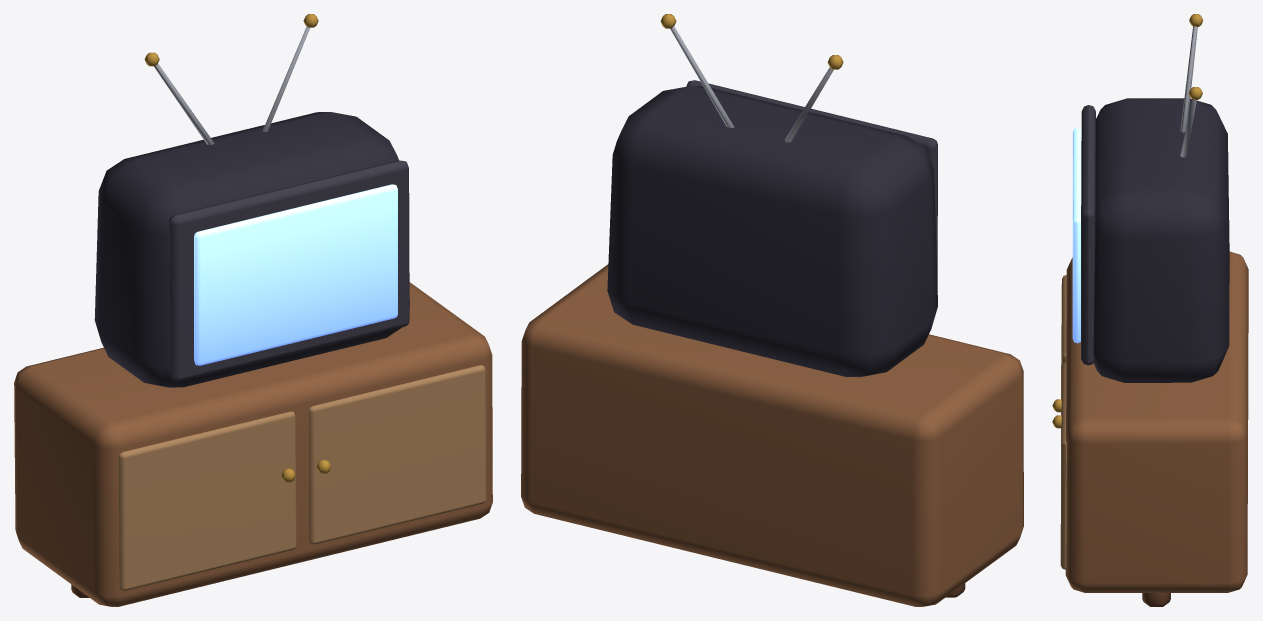
3 views of the same model, side by side, from view 1: azimuth 30°, elevation 25°; view 2: azimuth 150°, elevation 25°; view 3: azimuth 270°, elevation 25° (orthographic). The views are drawn at different scales.
Parts seen in each view (by area): view 1: tv, screen; view 2: tv; view 3: tv, screen.
Part boxes in pixels (x1,y1,x2,y2): tv: (14, 14, 492, 606); screen: (194, 184, 397, 365); tv: (521, 14, 1023, 606); tv: (1052, 14, 1248, 606); screen: (1072, 128, 1081, 343).
Size of the model in its own units: 0.9021 by 1.1 by 0.4101.
